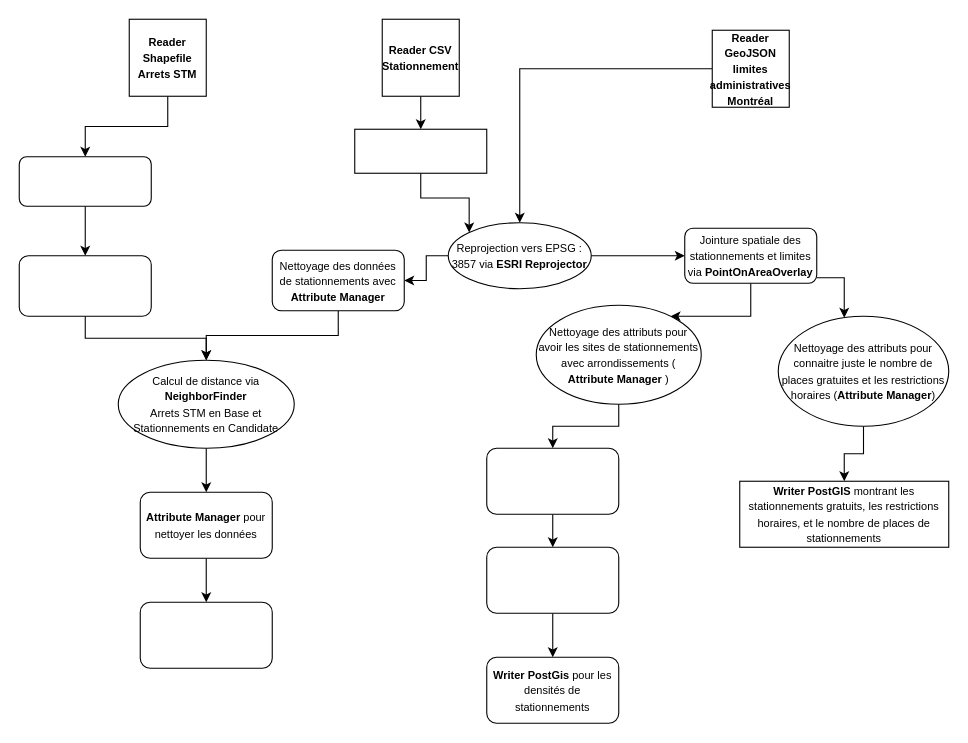
This 968x743 diagram has some shape labels left out. The box of each missing label's shape, as (x1, y1, x2, y2) in pixels:
Création d'attribut de la densité et calcul via AttributeCreator: (486, 447, 619, 514)
Filtrer et laisser les densités égale à 0 via AttributeFilter: (486, 546, 619, 613)
Nettoyage avec Attribute Manager: (18, 255, 151, 316)
Reprojection en 3857 via ESRI Reprojector: (18, 156, 151, 206)
Transformation des coordonnées en point via VERTEXCREATOR: (354, 128, 487, 173)
Writer PostGIS pour visualisation et modification symbologique: (139, 601, 272, 668)
